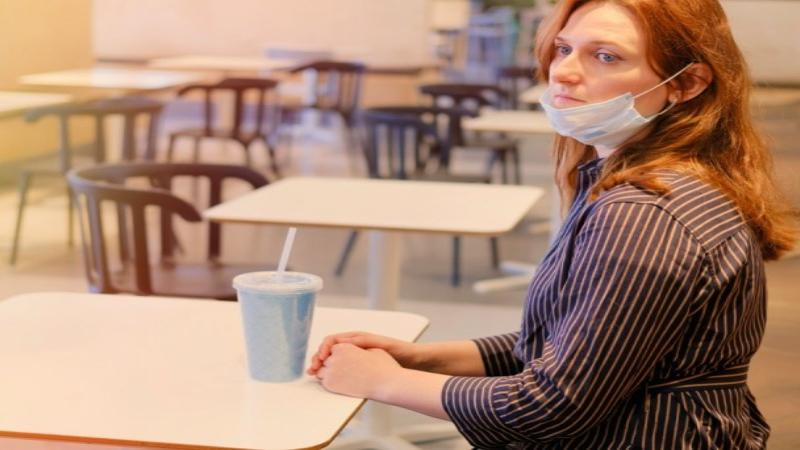mask_weared_incorrect: (540, 1, 741, 148)
